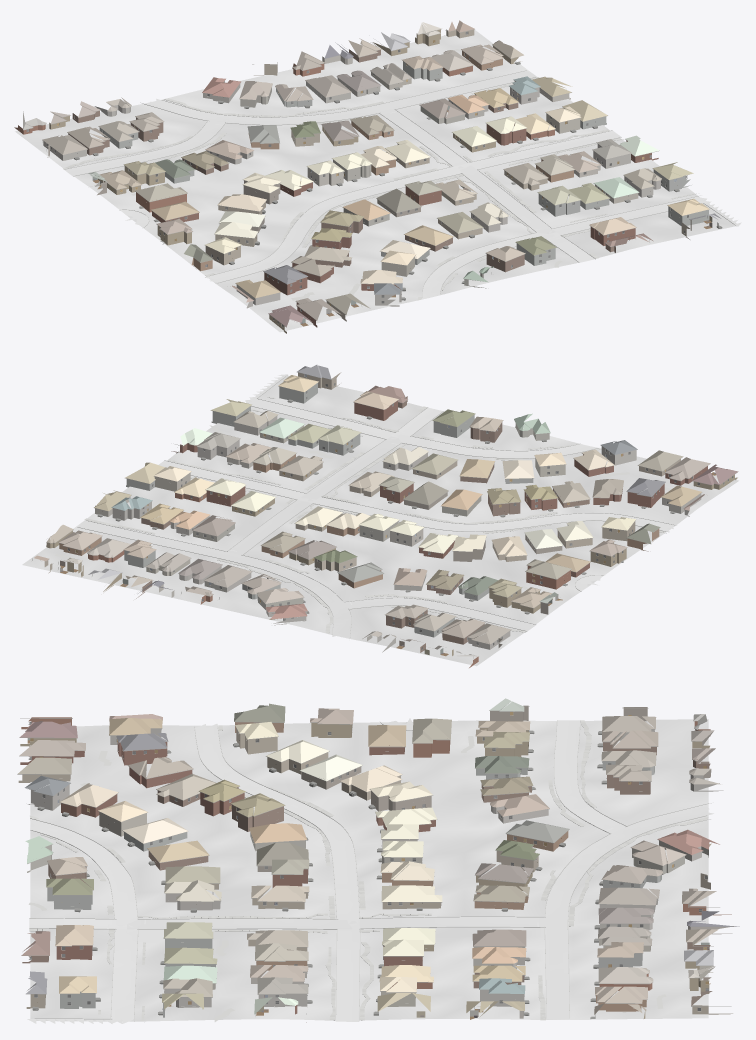
3 views of the same model, one above another, from view 1: azimuth 30°, elevation 25°; view 2: azimuth 150°, elevation 25°; view 3: azimuth 270°, elevation 25° (orthographic). The views are drawn at different scales.
Visible parts, largest first — view 1: ground, roof, concrete, wall, wall_stucco, detail, curb, walk, wall_stone, glass; view 2: ground, roof, concrete, wall, wall_stucco, detail, curb, walk, wall_stone, glass; view 3: ground, roof, concrete, wall, detail, wall_stucco, walk, wall_stone, curb, glass.
Part boxes in pixels (x1,y1,x2,y2): ground: (15,29,736,332); roof: (23,20,721,326); concrete: (64,70,741,299); wall: (14,29,691,333); wall_stucco: (99,54,708,288); detail: (23,29,722,327); curb: (64,70,735,298); walk: (63,49,694,300); wall_stone: (43,75,660,308); glass: (19,31,688,326); ground: (22,375,738,666); roof: (34,365,737,656); concrete: (78,374,673,637); wall: (44,372,737,667); wall_stucco: (95,383,565,637); detail: (31,372,738,658); curb: (77,375,675,637); walk: (55,396,671,633); wall_stone: (112,416,701,652); glass: (68,383,733,660); ground: (30,719,708,1021); roof: (18,698,739,1016); concrete: (27,718,713,1023); wall: (18,705,732,1022); detail: (17,706,733,1019); wall_stucco: (27,761,734,1018); walk: (28,720,708,1021); wall_stone: (28,728,723,1007); curb: (29,720,711,1021); glass: (29,721,708,1010).
Size of the model in its own units: 263 by 15.06 by 268.
